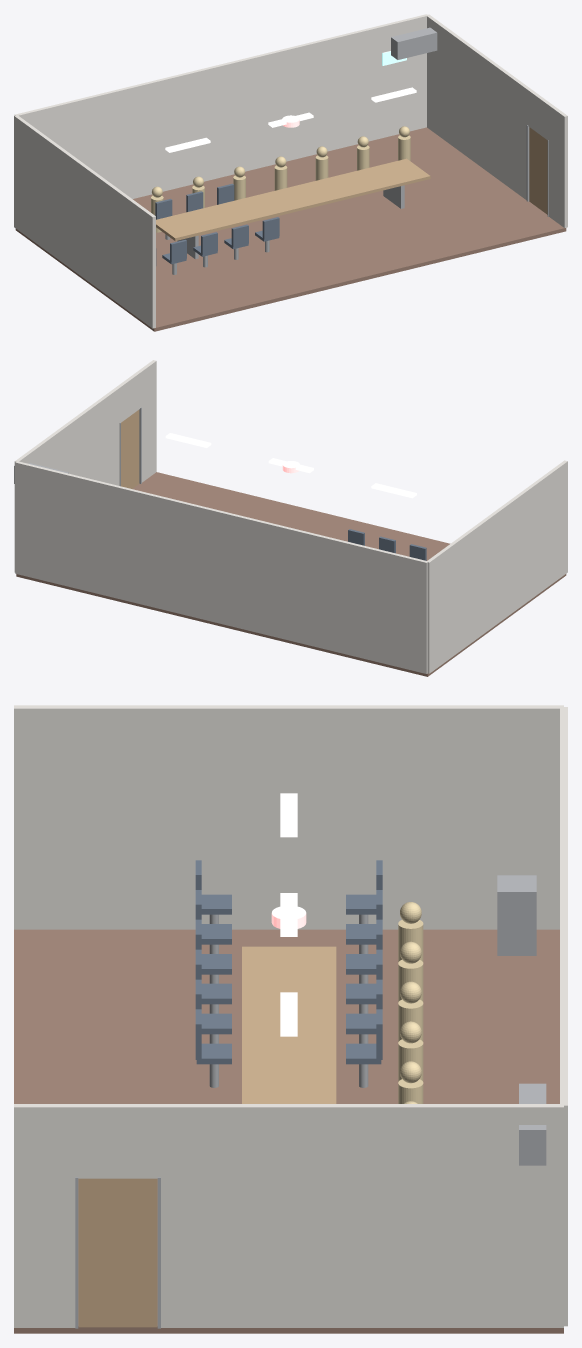
The model's file is room_301.glb.
The picture shows the model from 3 angles, top to bottom: view 1: azimuth 30°, elevation 25°; view 2: azimuth 150°, elevation 25°; view 3: azimuth 270°, elevation 25°; orthographic projection. The views are drawn at different scales.
Parts seen in each view (by area): view 1: Room_Wall_Back, Room_Floor, Room_Wall_Left, Room_Wall_Right_Back, Table_Main, Room_Wall_Right_Front, Door_Leaf, HVAC_Unit, Door_Lintel, Person_06, Person_05, Person_08 (+1 smaller); view 2: Room_Wall_Back, Room_Wall_Left, Room_Floor, Room_Wall_Right_Back, Room_Wall_Right_Front, Door_Leaf, Door_Lintel; view 3: Room_Wall_Left, Room_Wall_Right_Back, Room_Floor, Table_Main, Room_Wall_Right_Front, Door_Leaf, Door_Lintel, Room_Wall_Back, Humidifier, HVAC_Unit, Person_04, Person_03 (+5 smaller).
Part boxes in pixels (<box>): Room_Wall_Back: <box>14,14,427,198</box>; Room_Floor: <box>15,127,566,331</box>; Room_Wall_Left: <box>14,115,155,328</box>; Room_Wall_Right_Back: <box>426,14,530,199</box>; Table_Main: <box>156,158,430,240</box>; Room_Wall_Right_Front: <box>548,104,567,227</box>; Door_Leaf: <box>529,127,547,214</box>; HVAC_Unit: <box>391,27,437,59</box>; Door_Lintel: <box>528,89,551,140</box>; Person_06: <box>315,146,328,180</box>; Person_05: <box>274,156,287,190</box>; Person_08: <box>398,126,410,160</box>; Room_Wall_Back: <box>15,461,428,673</box>; Room_Wall_Left: <box>427,460,567,673</box>; Room_Floor: <box>16,472,566,676</box>; Room_Wall_Right_Back: <box>14,387,119,572</box>; Room_Wall_Right_Front: <box>138,360,156,482</box>; Door_Leaf: <box>121,410,139,488</box>; Door_Lintel: <box>117,371,140,422</box>; Room_Wall_Left: <box>14,705,563,929</box>; Room_Wall_Right_Back: <box>159,1104,563,1327</box>; Room_Floor: <box>14,929,563,1333</box>; Table_Main: <box>242,946,336,1103</box>; Room_Wall_Right_Front: <box>14,1104,76,1327</box>; Door_Leaf: <box>78,1178,157,1327</box>; Door_Lintel: <box>77,1104,159,1178</box>; Room_Wall_Back: <box>560,707,567,1326</box>; Humidifier: <box>497,875,536,955</box>; HVAC_Unit: <box>519,1083,546,1165</box>; Person_04: <box>398,1021,423,1081</box>; Person_03: <box>398,981,423,1041</box>.
Size of the model in its own units: 12.25 by 3.2 by 7.05.
